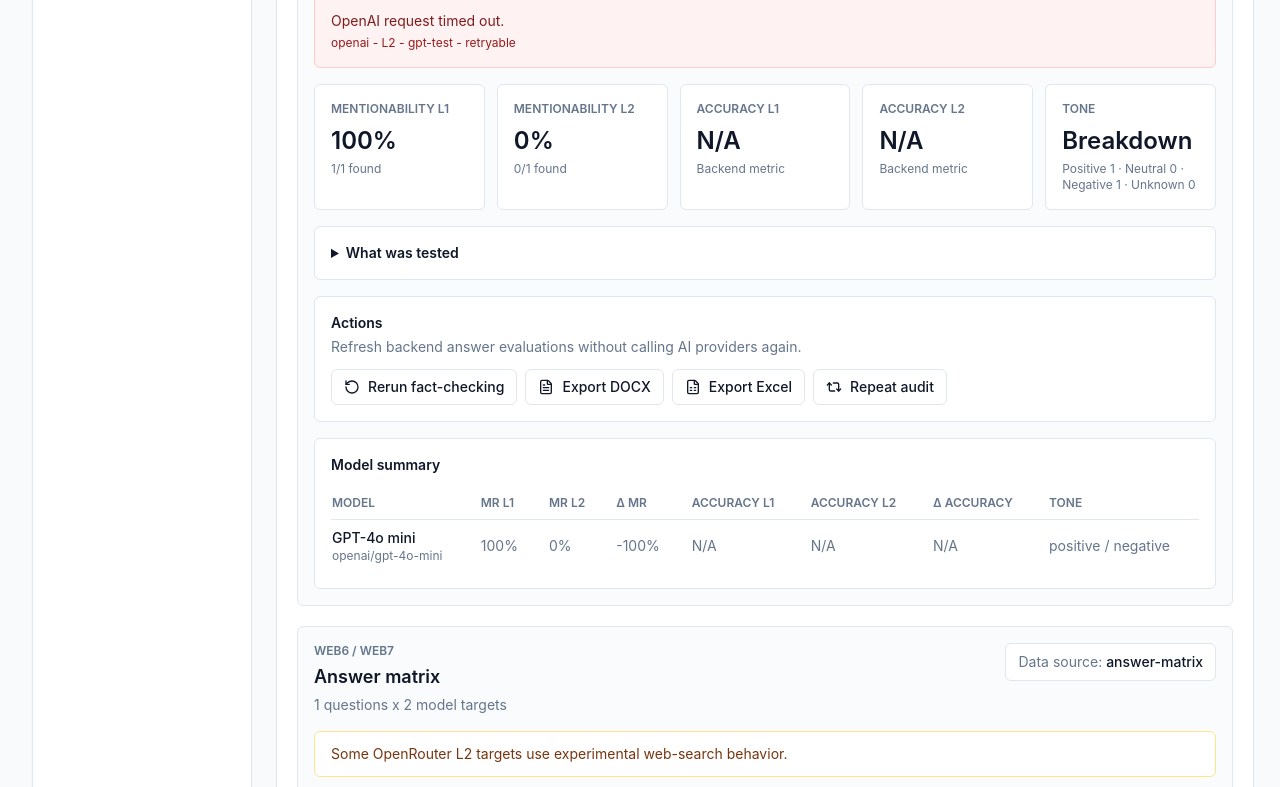
Test case: audit summary page › disables the repeat action while the duplicate request is pending
(page scrolled)
Step 1. Click the button "Repeat audit" → (880, 387), box [813, 369, 947, 405]
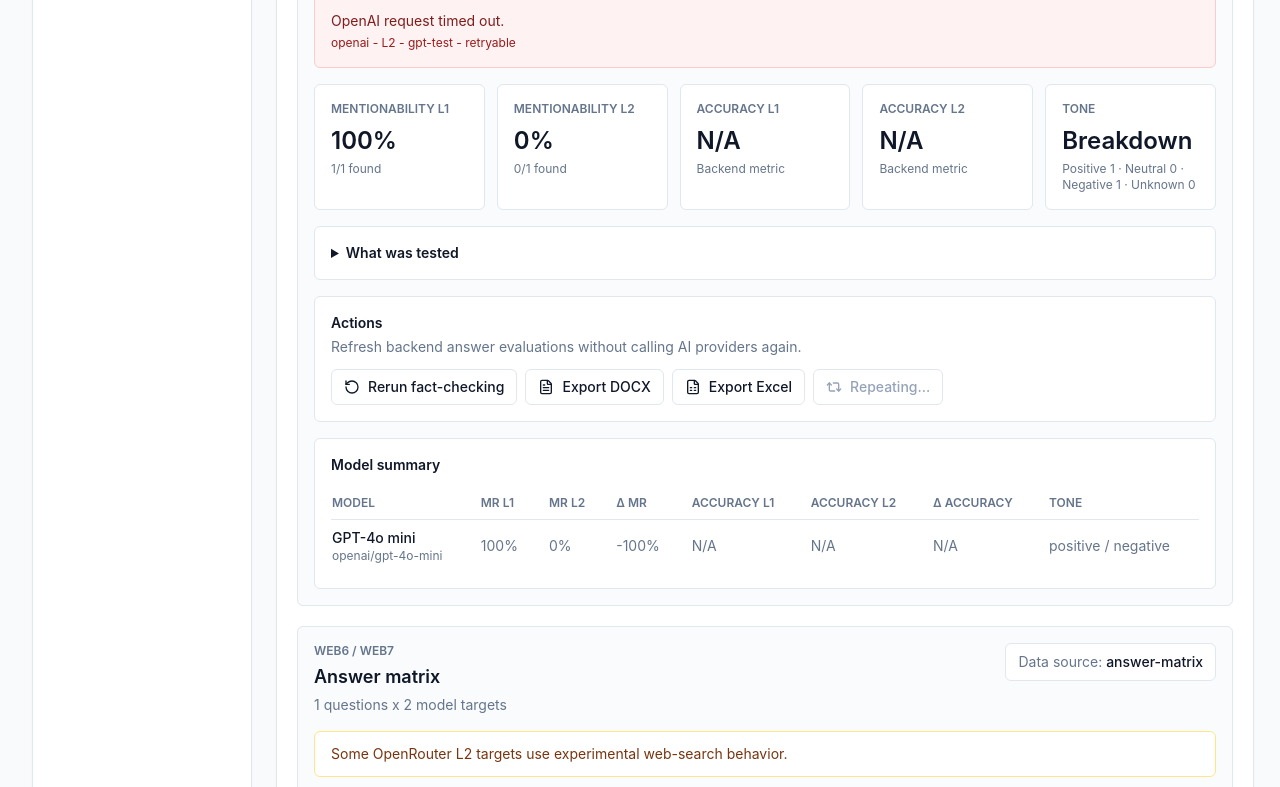
Result: the button "Repeating..." is disabled at [813, 369, 943, 405]
